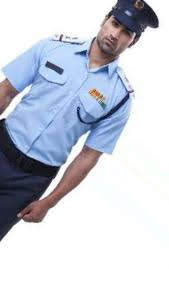uniform: (6, 2, 144, 232)
